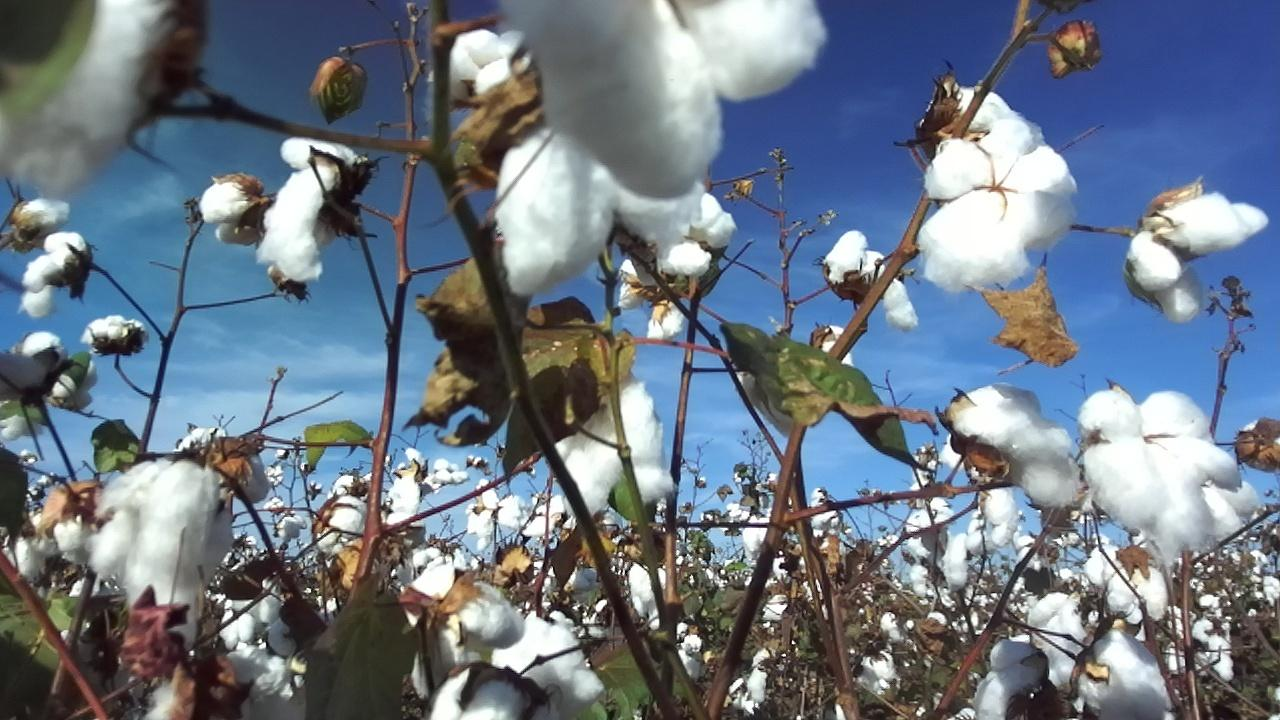cotton_ready: (504, 0, 825, 197), (0, 0, 179, 209), (497, 130, 699, 297), (92, 460, 239, 643), (920, 120, 1075, 291), (1084, 392, 1240, 553), (1129, 194, 1267, 318), (555, 384, 675, 522), (404, 570, 525, 698), (256, 137, 365, 279), (959, 390, 1081, 505), (145, 644, 299, 720), (492, 612, 600, 720), (827, 229, 918, 335), (1078, 632, 1172, 720), (1028, 592, 1102, 694), (175, 427, 270, 504), (15, 497, 99, 578), (428, 669, 560, 720), (452, 26, 535, 107), (660, 192, 739, 273), (1085, 550, 1169, 625), (974, 640, 1047, 720), (616, 258, 685, 340), (24, 230, 85, 318), (959, 84, 1042, 139), (1198, 477, 1257, 542), (204, 182, 259, 245), (315, 495, 370, 557), (969, 489, 1019, 557), (25, 332, 70, 398), (387, 449, 425, 526), (81, 315, 149, 350)
